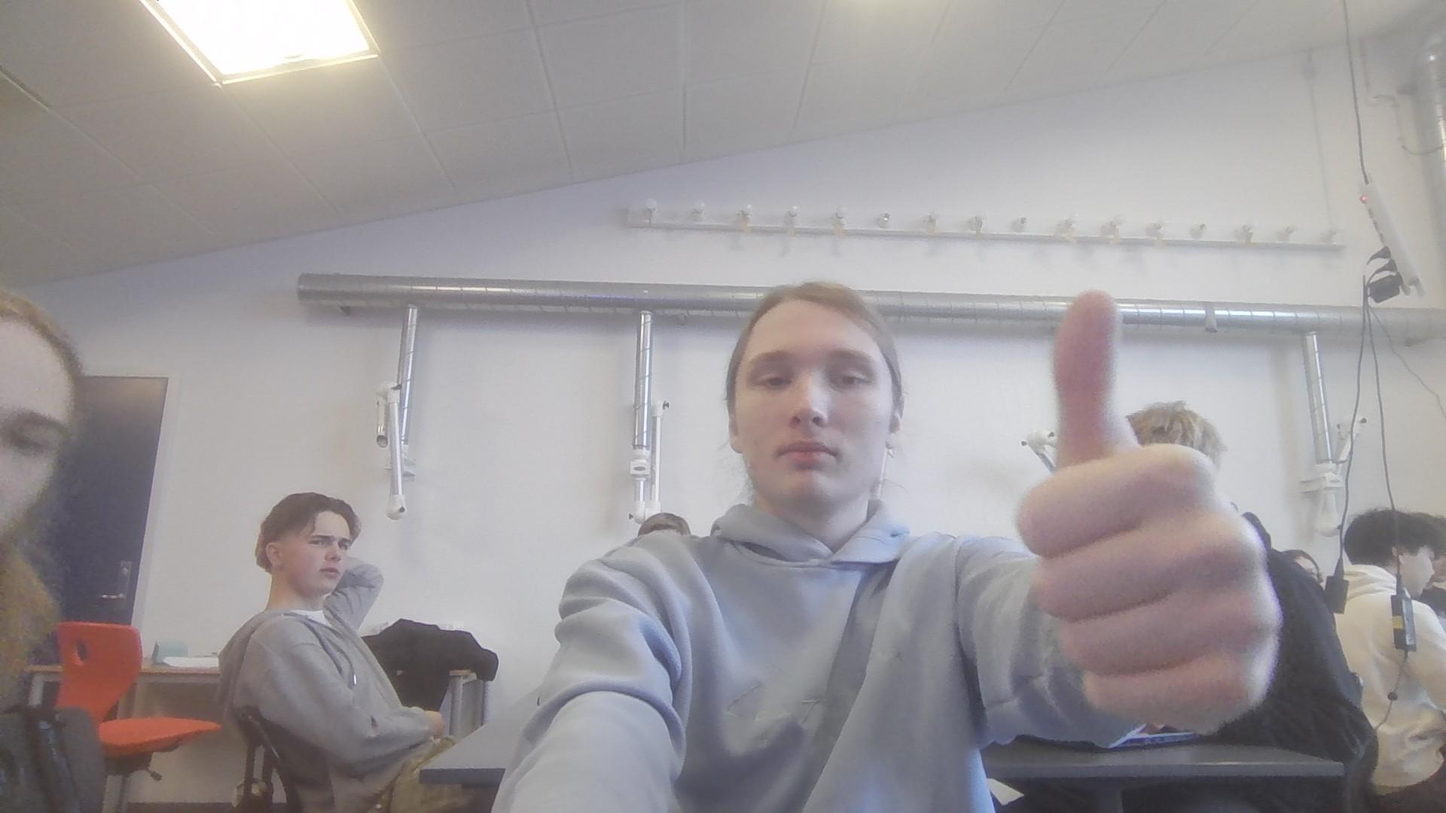thumbs up: (1015, 289, 1295, 733)
